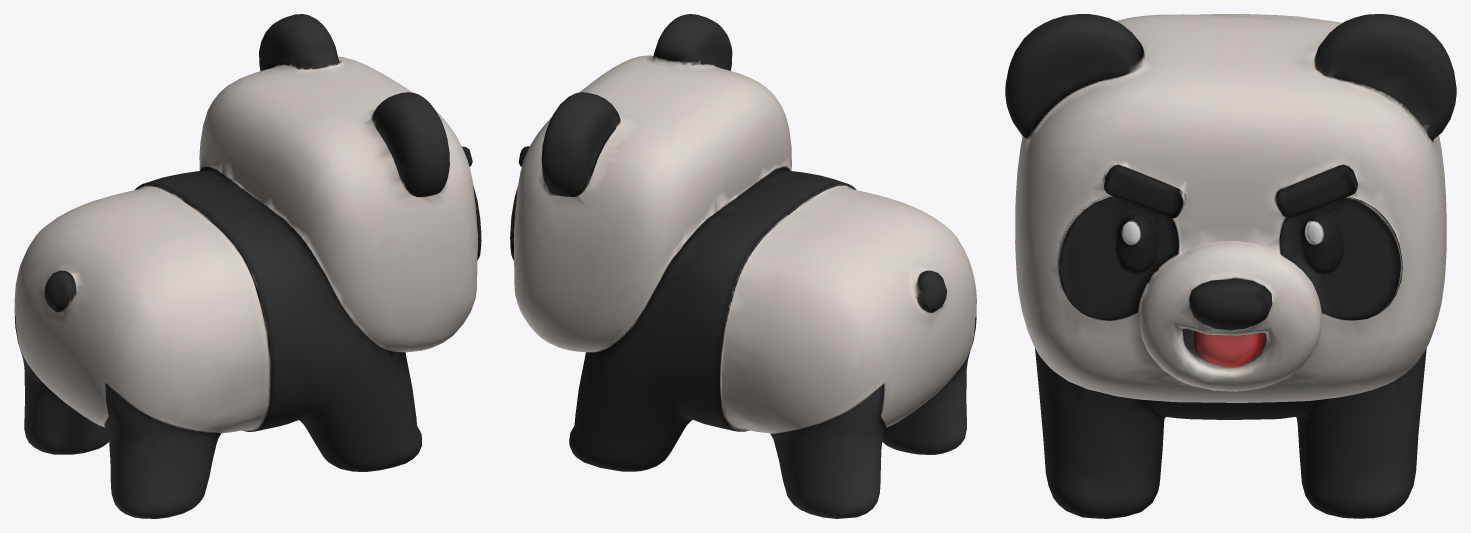
File: tripo_convert_d47b84d0-cf5a-4452-a58e-47ad933360e2.fbx
3 renders of one model, left to right at view 1: azimuth 30°, elevation 25°; view 2: azimuth 150°, elevation 25°; view 3: azimuth 270°, elevation 25°, orthographic. The views are drawn at different scales.
Parts seen in each view (by area): view 1: tripo_node_d47b84d0; view 2: tripo_node_d47b84d0; view 3: tripo_node_d47b84d0.
Part boxes in pixels (<box>): tripo_node_d47b84d0: <box>14,14,481,518</box>; tripo_node_d47b84d0: <box>510,14,976,518</box>; tripo_node_d47b84d0: <box>1005,14,1456,518</box>.
Size of the model in its own units: 0.9799 by 0.8012 by 0.6557.
1 material, 1 textured.
